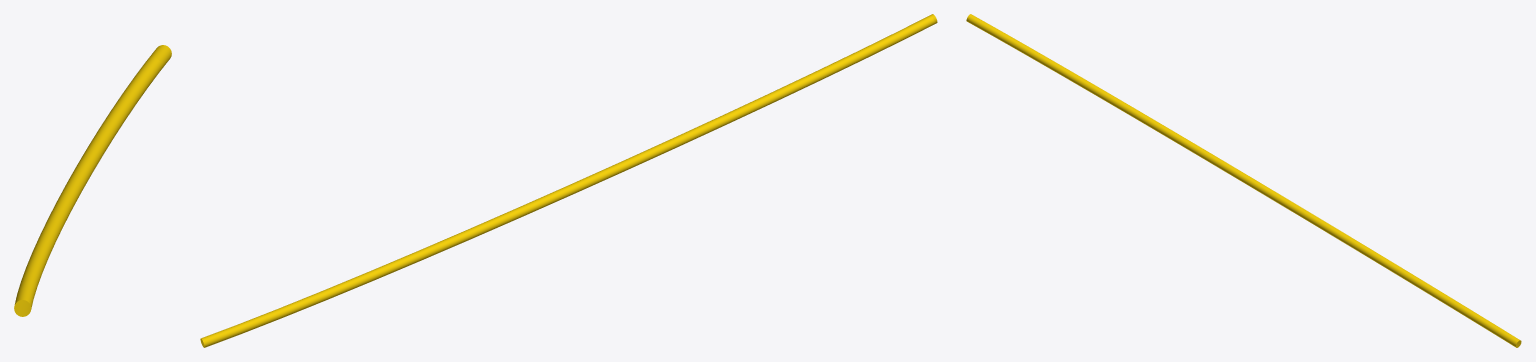
The model's file is Event_420094457_track_17.fbx.
3 renders of one model, left to right at view 1: azimuth 90°, elevation 25°; view 2: azimuth 210°, elevation 25°; view 3: azimuth 330°, elevation 25°, orthographic. The views are drawn at different scales.
Parts seen in each view (by area): view 1: Model; view 2: Model; view 3: Model.
Boxes of the visible parts, x1=… form: Model: x1=14, y1=45, x2=171, y2=316; Model: x1=200, y1=14, x2=937, y2=347; Model: x1=966, y1=14, x2=1521, y2=347.
Size of the model in its own units: 3.14 by 0.8468 by 0.3658.
